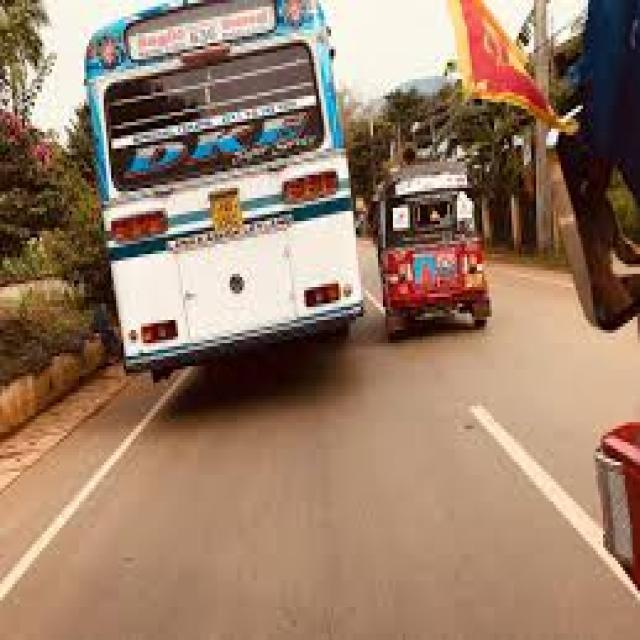bus: (76, 1, 359, 428)
tuktuk: (377, 148, 496, 358)
